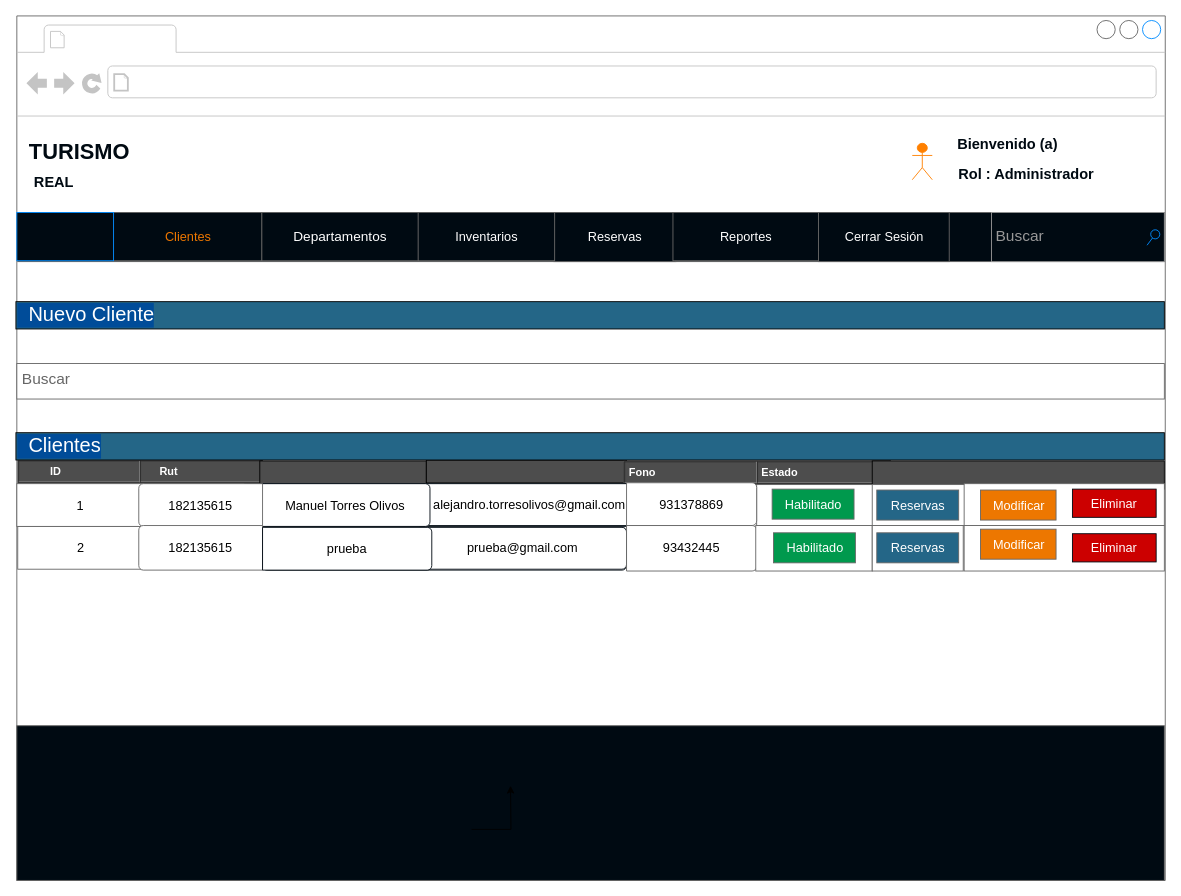
This 1181x896 diagram has some shape labels left out. Each missing label, with the centre of its shape:
"CONECTA CON NOSOTROS" belongs at pixel 590 802.
"Email Fono row 1, cell 1 row 1, cell 2" belongs at pixel 526 471.
"Home" belongs at pixel 65 236.
"http://localhost:47017/turismo/clientes.jsp" belongs at pixel 248 82.
"Nombres Departamento row 1, cell 1 row 1, cell 2" belongs at pixel 342 472.
"Page 1" belongs at pixel 121 38.
"Reservas Aciones w 1, cell 1 row 1, cell 2" belongs at pixel 1017 474.
